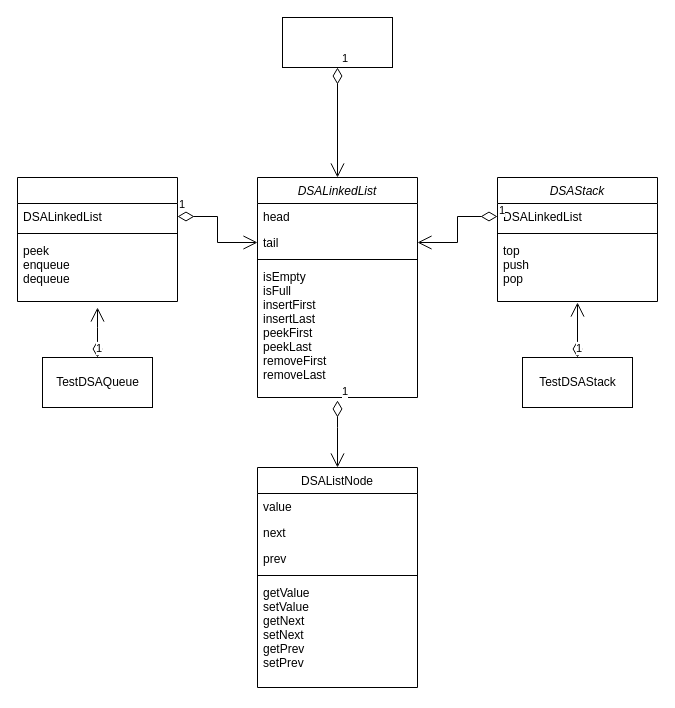
Some shapes in this 675 by 708 pixel diagram are drawn without their labels. Here are the shapes that lost their labels. From the top down, the box of each, then its label:
(282, 16, 392, 68): TestLinkedList
(16, 176, 178, 302): DSAQueue
